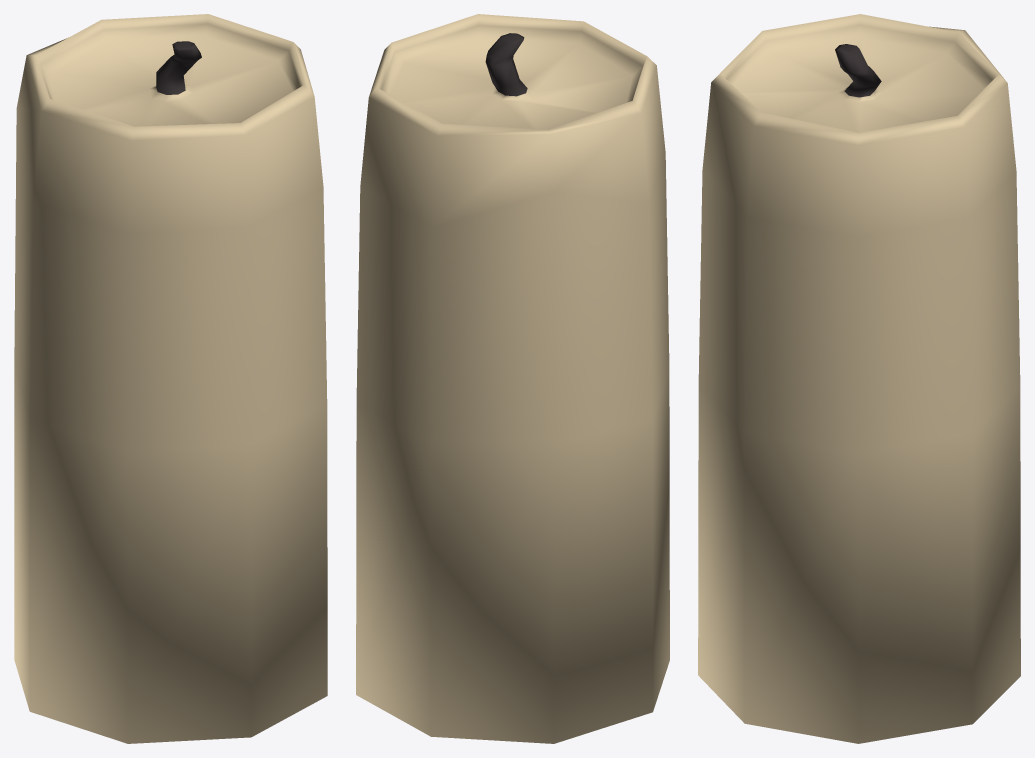
File: OBJETS_Bougie_Neuve_JAM_2024.fbx
3 renders of one model, left to right at view 1: azimuth 30°, elevation 25°; view 2: azimuth 150°, elevation 25°; view 3: azimuth 270°, elevation 25°, orthographic.
Visible parts, largest first — view 1: Bougie neuve; view 2: Bougie neuve; view 3: Bougie neuve.
Part boxes in pixels (left/top/right/bottom): Bougie neuve: left=14, top=14, right=327, bottom=743; Bougie neuve: left=356, top=14, right=669, bottom=743; Bougie neuve: left=698, top=14, right=1020, bottom=743.
Size of the model in its own units: 9.08 by 19.57 by 9.08.
